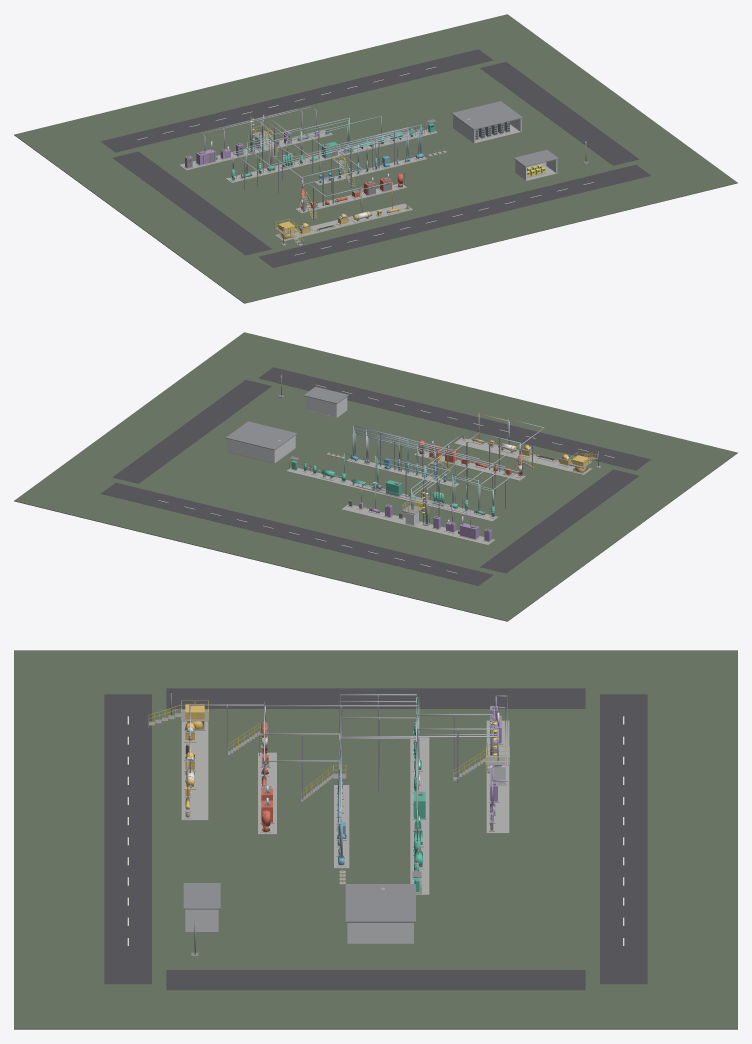
Rendered from plant_model.glb.
3 views of the same model, one above another, from view 1: azimuth 30°, elevation 25°; view 2: azimuth 150°, elevation 25°; view 3: azimuth 270°, elevation 25° (orthographic). The views are drawn at different scales.
Visible parts, largest first — view 1: ground, road, road.001, road.002, road.003, control_roof, pad_HB, pad_FE, pad_EU; view 2: ground, road.001, road, road.002, road.003, control_roof, pad_HB, pad_EU, pad_FE, control_building_wall; view 3: ground, road.001, road, road.003, road.002, control_roof, pad_FE, pad_HB, control_building_wall.002, pad_EU, shelter_roof, pad_GC (+2 smaller).
Part boxes in pixels (x1=…): ground: x1=14, y1=14, x2=737, y2=303; road: x1=258, y1=164, x2=651, y2=267; road.001: x1=101, y1=49, x2=493, y2=152; road.002: x1=112, y1=151, x2=271, y2=255; road.003: x1=480, y1=62, x2=639, y2=165; control_roof: x1=451, y1=101, x2=523, y2=129; pad_HB: x1=225, y1=129, x2=437, y2=182; pad_FE: x1=275, y1=203, x2=412, y2=241; pad_EU: x1=179, y1=129, x2=332, y2=170; ground: x1=14, y1=332, x2=737, y2=621; road.001: x1=100, y1=482, x2=493, y2=585; road: x1=258, y1=367, x2=650, y2=470; road.002: x1=480, y1=469, x2=639, y2=573; road.003: x1=112, y1=380, x2=271, y2=483; control_roof: x1=226, y1=421, x2=297, y2=450; pad_HB: x1=286, y1=467, x2=497, y2=521; pad_EU: x1=341, y1=504, x2=494, y2=545; pad_FE: x1=454, y1=437, x2=591, y2=475; control_building_wall: x1=227, y1=439, x2=274, y2=463; ground: x1=14, y1=650, x2=737, y2=1029; road.001: x1=600, y1=694, x2=647, y2=984; road: x1=104, y1=694, x2=151, y2=984; road.003: x1=166, y1=970, x2=585, y2=990; road.002: x1=166, y1=688, x2=585, y2=708; control_roof: x1=345, y1=884, x2=415, y2=922; pad_FE: x1=181, y1=721, x2=208, y2=820; pad_HB: x1=410, y1=737, x2=429, y2=894; control_building_wall.002: x1=347, y1=923, x2=413, y2=943; pad_EU: x1=486, y1=720, x2=509, y2=833; shelter_roof: x1=183, y1=883, x2=220, y2=909; pad_GC: x1=334, y1=785, x2=349, y2=868.
Size of the model in its own units: 94 by 6.79 by 76.
